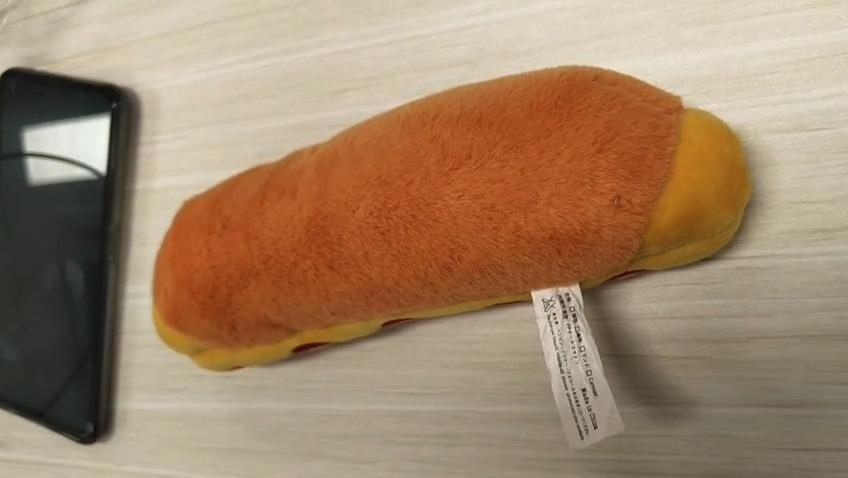hotdog: (151, 63, 750, 371)
